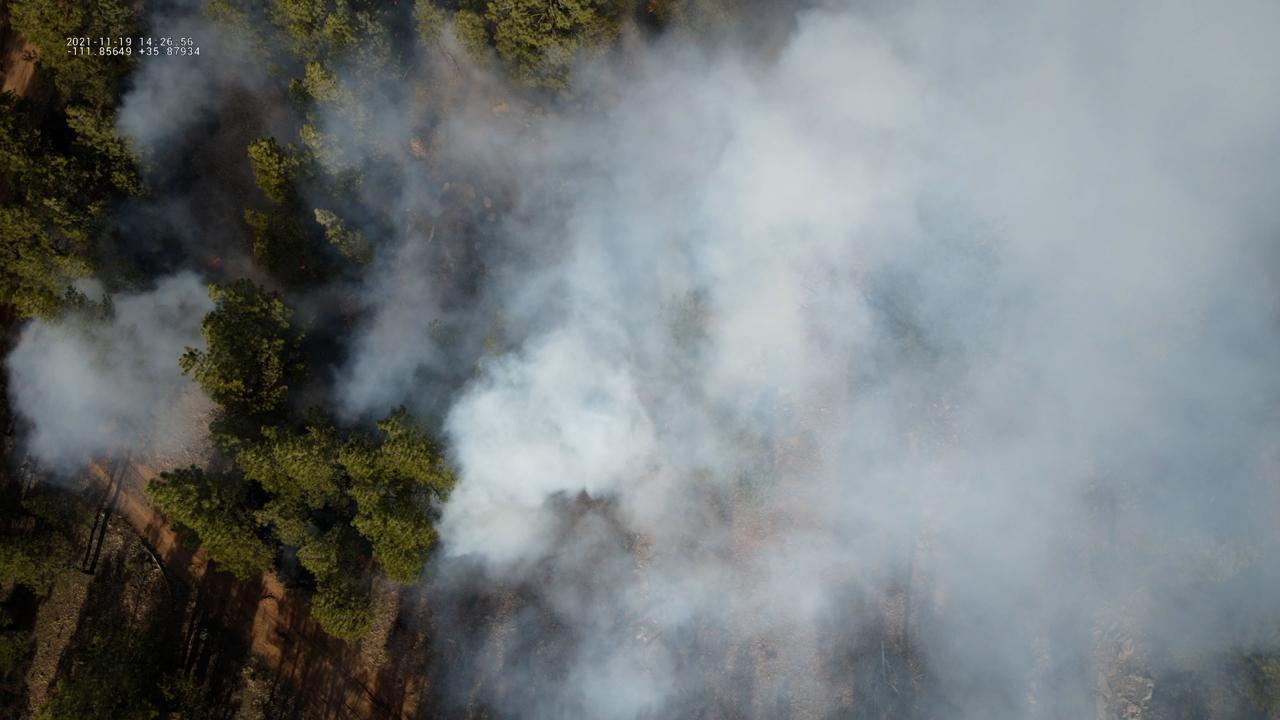fire: (205, 253, 225, 270), (297, 264, 308, 271)
smoke: (0, 0, 1280, 720)
